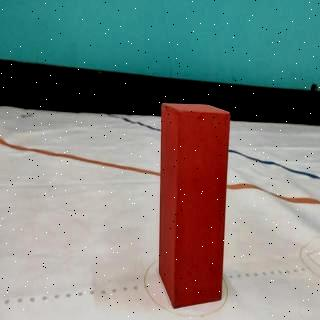redbox: (160, 104, 228, 305)
